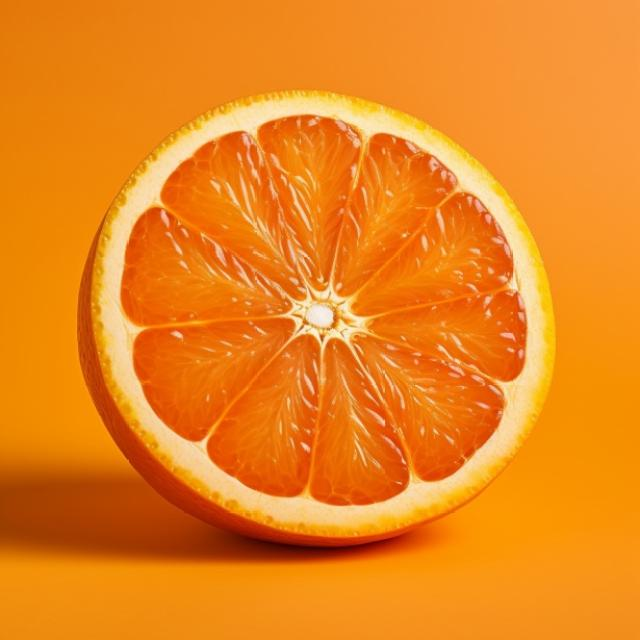orange: (81, 87, 564, 549)
